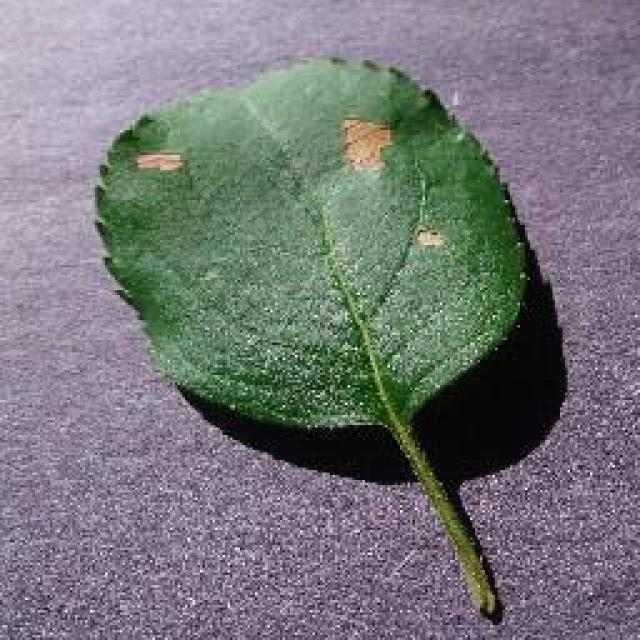Apple___Black_rot: (88, 49, 532, 432)
